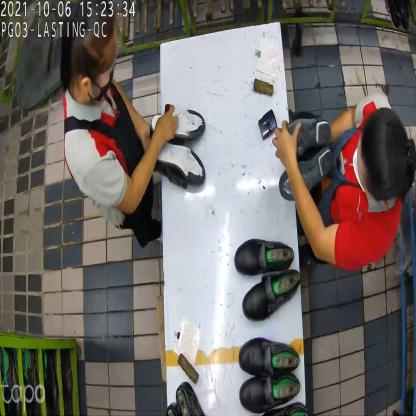shoes: (233, 238, 301, 323), (236, 336, 304, 416), (274, 117, 336, 203), (148, 107, 207, 186)
stamp: (161, 100, 180, 137), (258, 109, 277, 140)
